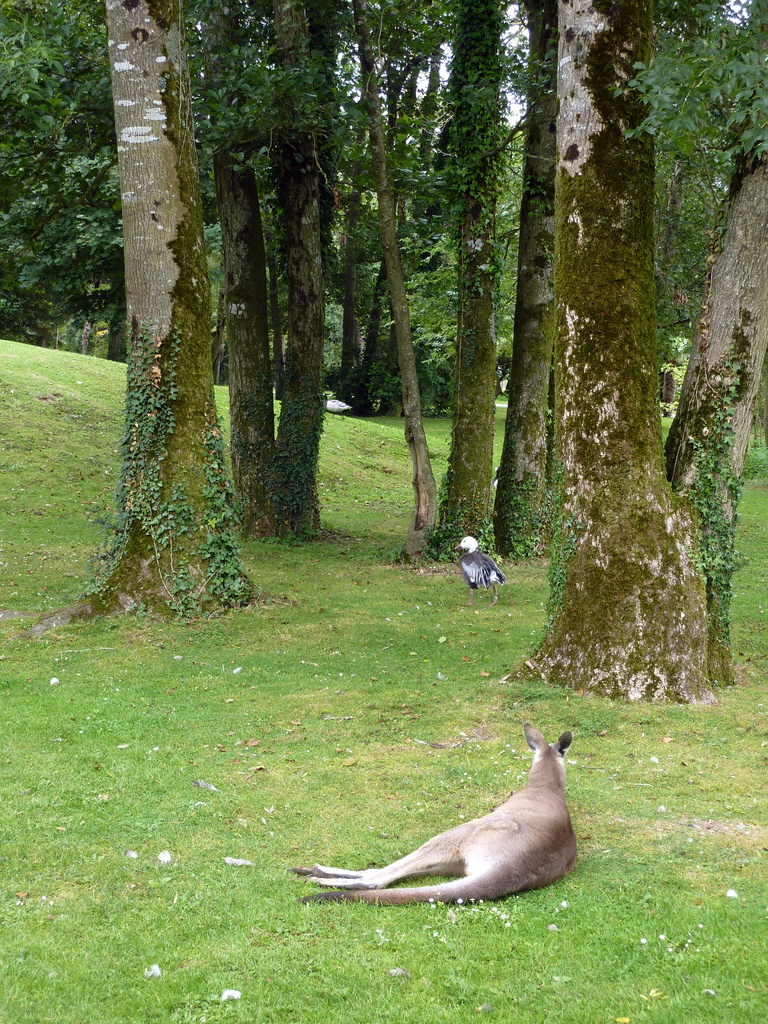kangaroo: (287, 716, 583, 910)
